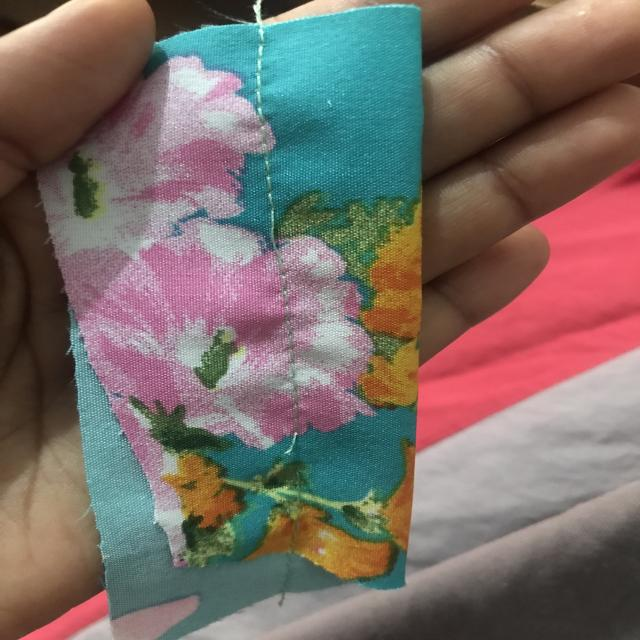broken: (271, 429, 323, 482)
skip: (244, 208, 296, 265)
